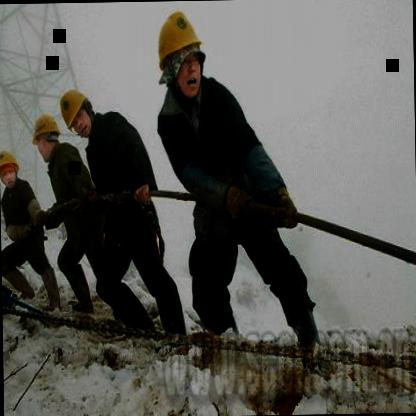helmet: (150, 2, 208, 113), (54, 83, 96, 142), (30, 111, 62, 161), (0, 145, 22, 190)
